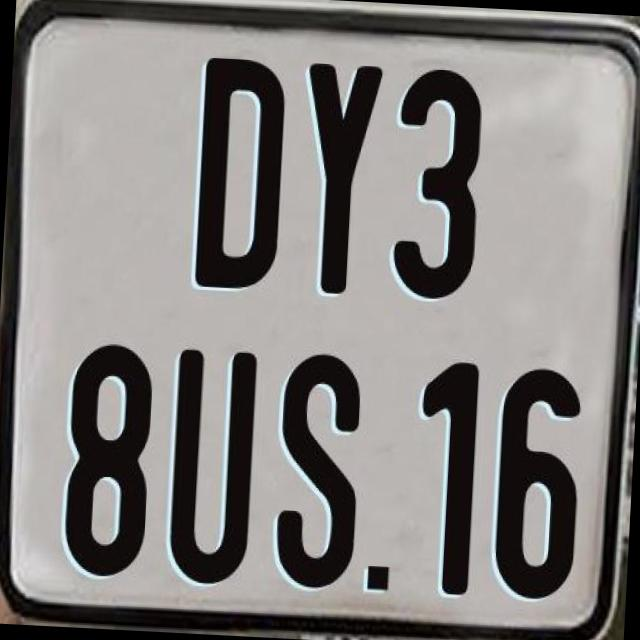1: (408, 358, 478, 596)
3: (390, 67, 484, 306)
6: (492, 362, 588, 598)
8: (61, 339, 156, 583)
D: (191, 55, 287, 298)
S: (273, 347, 364, 594)
U: (163, 344, 254, 580)
Y: (296, 58, 382, 296)
